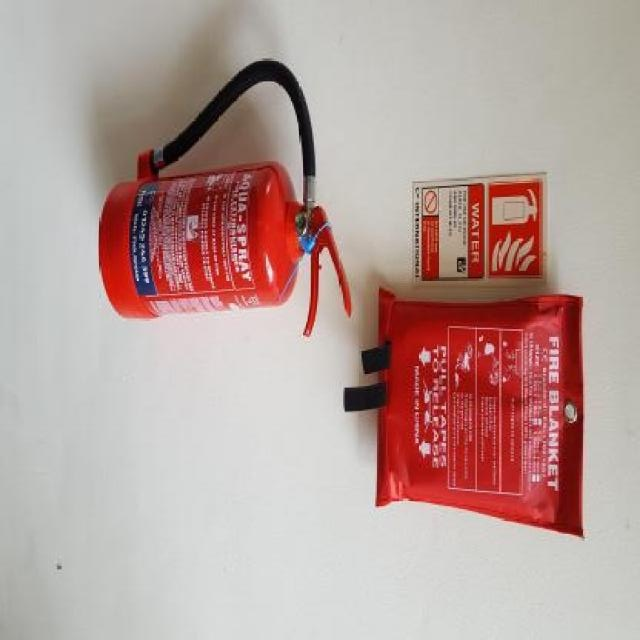fire extinguisher: (100, 55, 351, 340)
